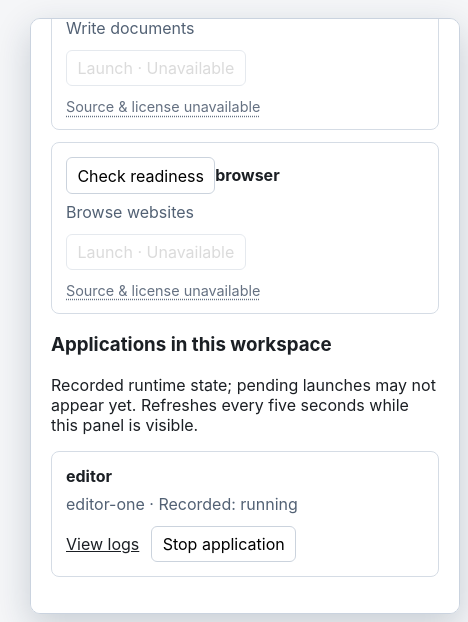
it: keeps stop errors visible after a successful list refresh
(page scrolled)
Click the button with aria-label "Stop editor-one": (224, 544) [151, 526, 296, 562]
(page scrolled)
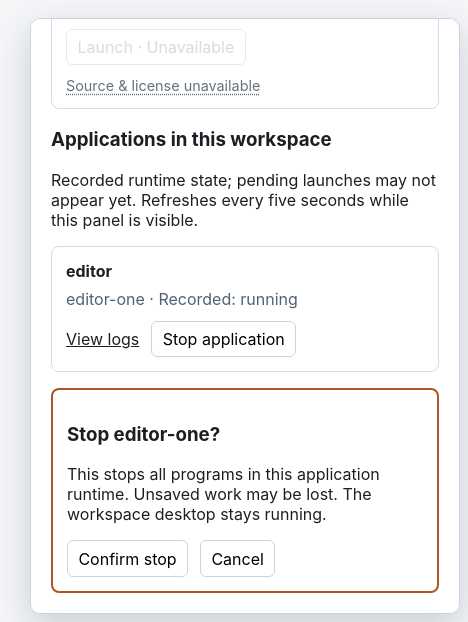
Click the button "Confirm stop": (128, 558) [67, 540, 188, 577]
(page scrolled)
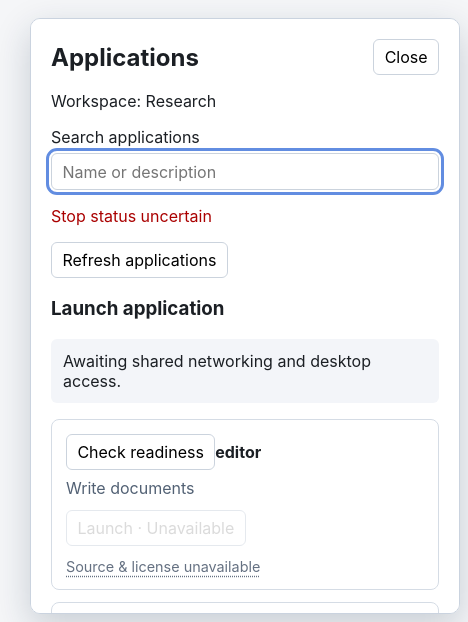
expect the message reads "Stop status uncertain": met, box [51, 206, 212, 226]
